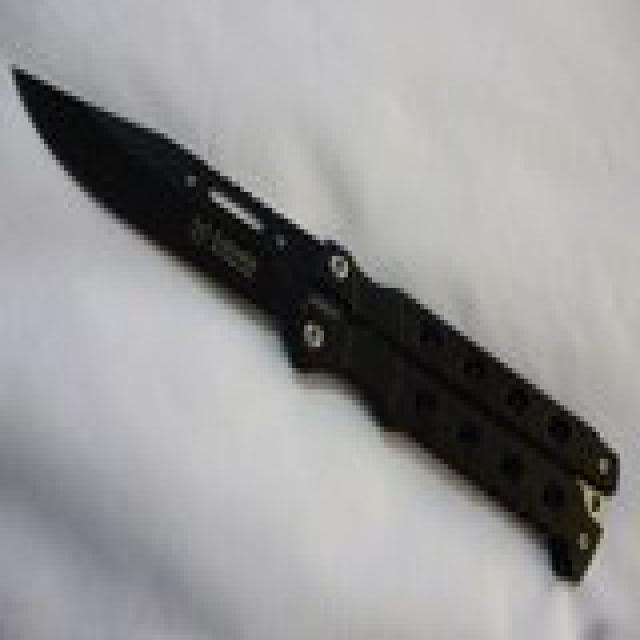Knife: (5, 53, 628, 595)
